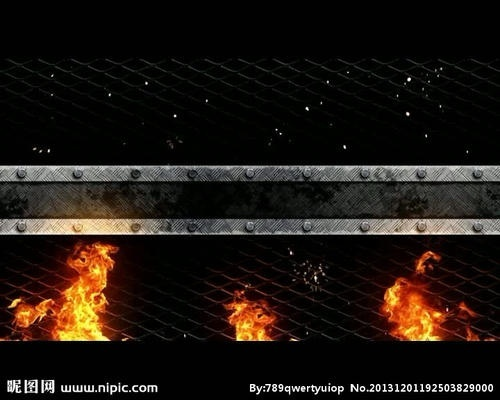fire: (3, 240, 122, 341), (380, 249, 494, 344), (224, 286, 280, 342)
